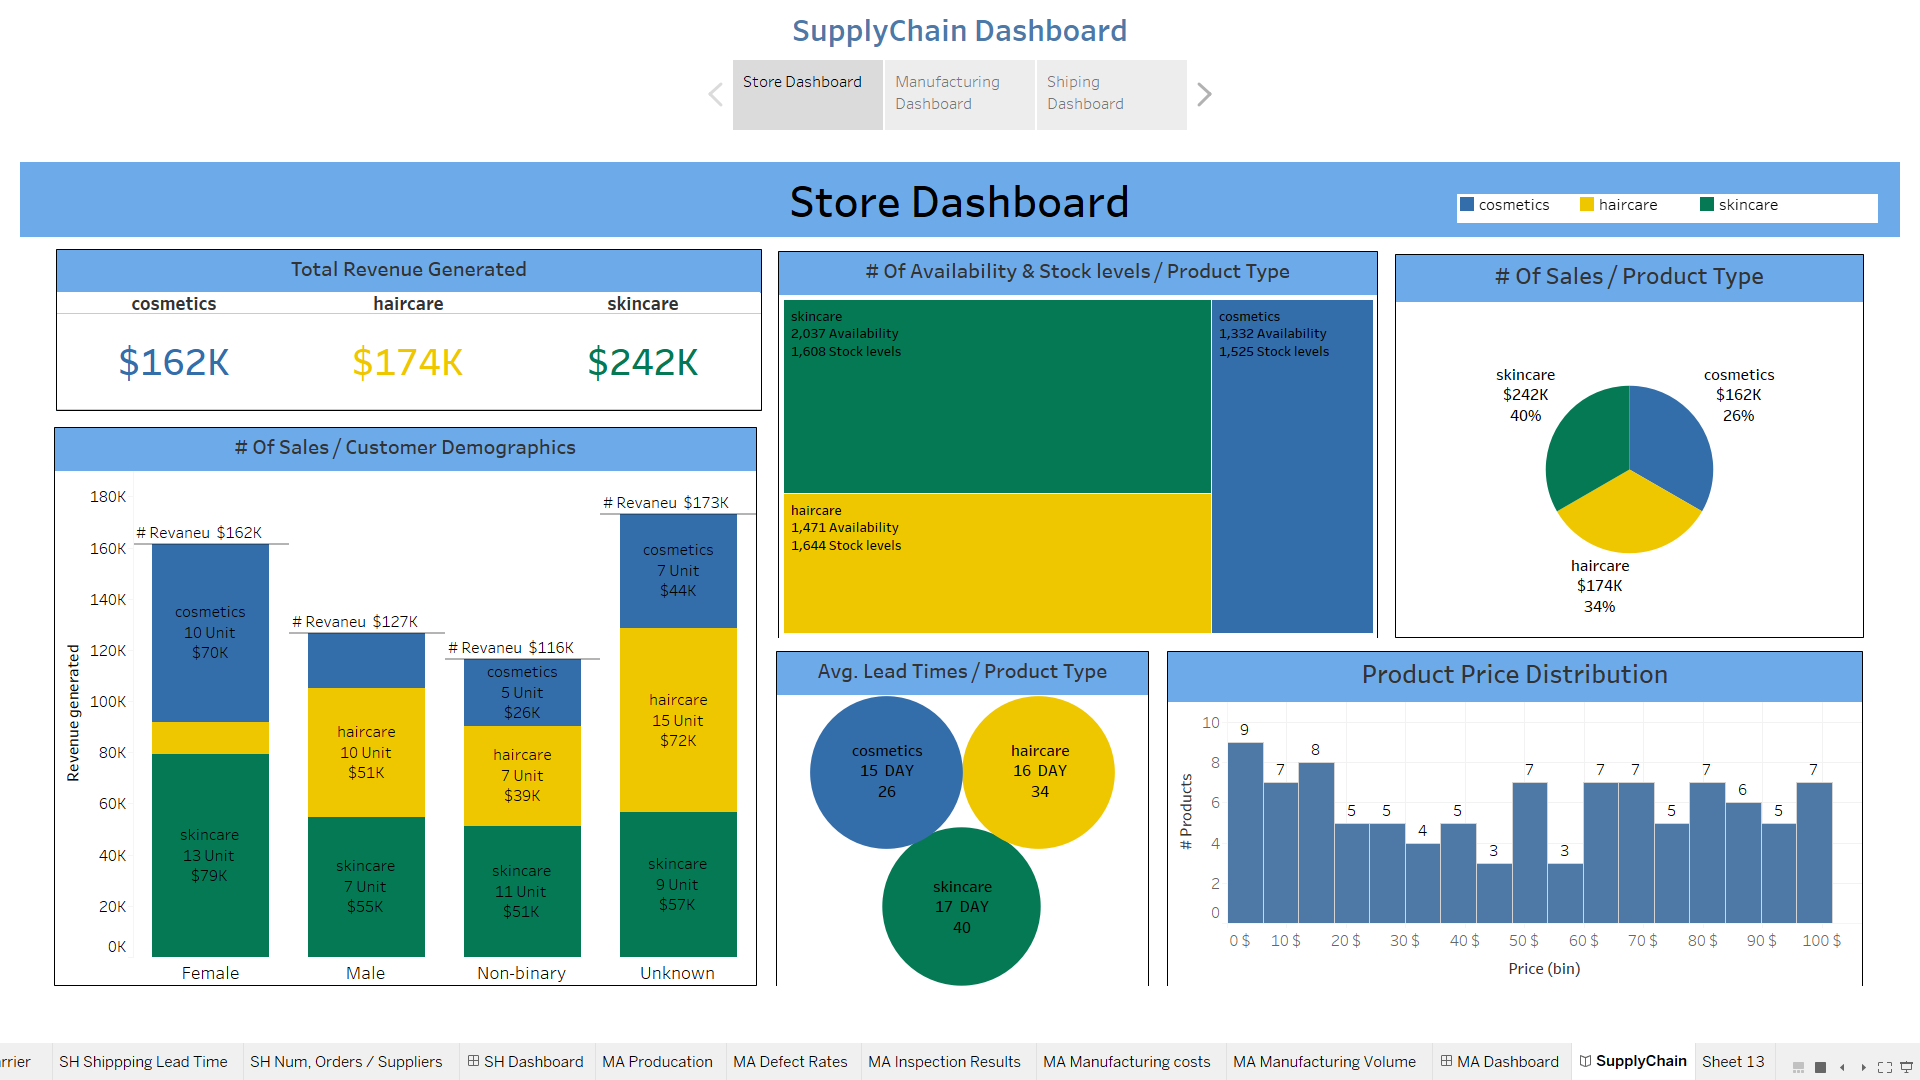

What the dashboard file says about the page in this screenshot:
{"tool":"tableau","page":{"name":"ST Dashboard","canvas":[1000,1000],"units":"permille","ordinal":2},"visuals":[{"type":"text","box":[4.8,10,990.3,93.6]},{"type":"legend","title":"ST Demographics","param":"[federated.1nbx99m0w0krwn18djlsl0tgoltc].[none:Product type:nk]","box":[761,49.9,220.9,32.5]},{"type":"worksheet","title":"ST Revenue Generated","mark":"Automatic","cols":["Product type"],"box":[25.4,112.4,370.6,183.5]},{"type":"worksheet","title":"ST Stock","mark":"Automatic","box":[404.4,113.6,315,438.2]},{"type":"worksheet","title":"ST Sales","mark":"Pie","box":[728.4,117.4,246.2,434.5]},{"type":"worksheet","title":"ST Demographics","mark":"Automatic","rows":["Revenue generated"],"cols":["Customer demographics"],"box":[24.1,313.4,369.3,631.7]},{"type":"worksheet","title":"ST Lead Time","mark":"Circle","box":[403.1,565.5,196.1,379.5]},{"type":"worksheet","title":"ST Price Distribution","mark":"Automatic","rows":["SKU"],"cols":["Price (bin)"],"box":[608.9,565.5,365.7,379.5]}]}

Visuals, with their boxes on the dashboard's canvas, which has no fixed pixel size, in thousandths of its width and height (x1, y1, x2, y2). These are canvas units, not pixel positions in the 1920x1080 screenshot, which may show the page scaled, cropped or inside an application window:
text: (5,10,995,104)
"ST Demographics" legend: (761,50,982,82)
"ST Revenue Generated" worksheet: (25,112,396,296)
"ST Stock" worksheet: (404,114,719,552)
"ST Sales" worksheet (Pie marks): (728,117,975,552)
"ST Demographics" worksheet: (24,313,393,945)
"ST Lead Time" worksheet (Circle marks): (403,566,599,945)
"ST Price Distribution" worksheet: (609,566,975,945)
